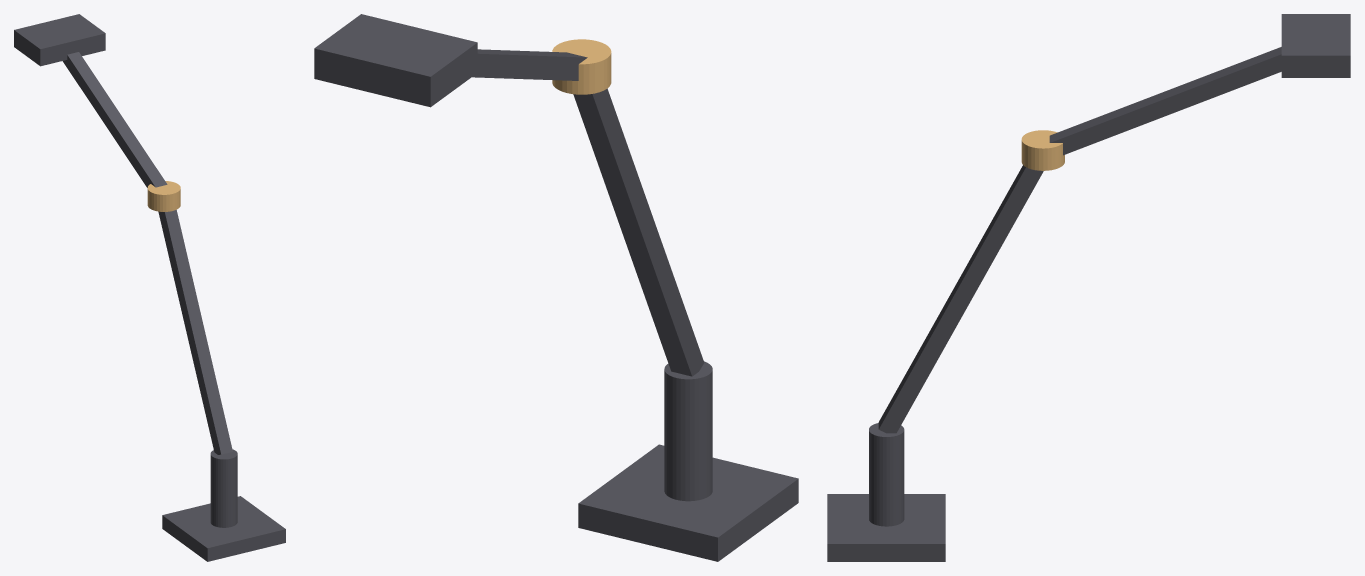
3 views of the same model, side by side, from view 1: azimuth 30°, elevation 25°; view 2: azimuth 150°, elevation 25°; view 3: azimuth 270°, elevation 25° (orthographic). The views are drawn at different scales.
Parts seen in each view (by area): view 1: LowerArm, Base, Head, UpperArm, Stem, Joint; view 2: Base, Head, LowerArm, Stem, UpperArm, Joint; view 3: Base, LowerArm, UpperArm, Head, Stem, Joint.
Part boxes in pixels (box(x1,y1,x2,y2)): LowerArm: box(158, 210, 232, 454); Base: box(162, 496, 285, 561); Head: box(14, 14, 105, 66); UpperArm: box(62, 52, 167, 187); Stem: box(210, 449, 237, 527); Joint: box(147, 181, 180, 211); Base: box(578, 444, 798, 561); Head: box(314, 14, 477, 107); LowerArm: box(573, 88, 704, 376); Stem: box(664, 361, 712, 501); UpperArm: box(472, 49, 587, 80); Joint: box(552, 39, 611, 94); Base: box(827, 494, 945, 561); LowerArm: box(878, 165, 1043, 433); UpperArm: box(1049, 47, 1281, 155); Head: box(1281, 14, 1350, 77); Stem: box(869, 423, 904, 526); Joint: box(1021, 130, 1064, 170).
Size of the model in its own units: 0.12 by 0.5612 by 0.5301.
